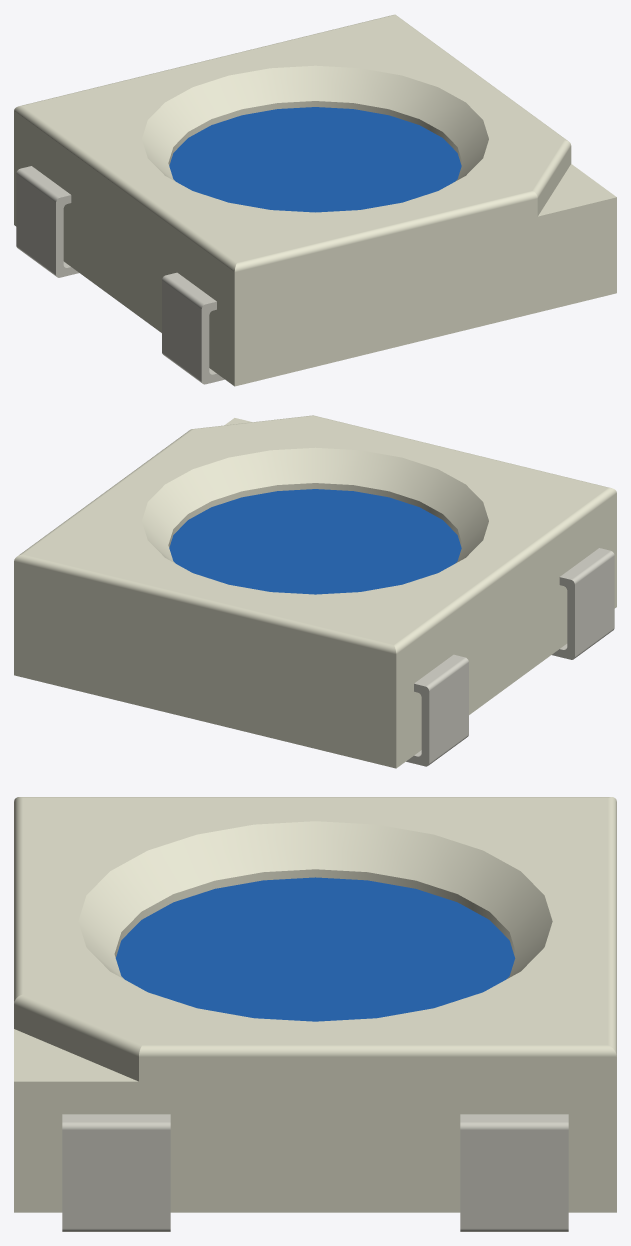
File: LED_WS2812B_PLCC4_5.0x5.0mm_P3.2mm.glb
3 renders of one model, top to bottom at view 1: azimuth 30°, elevation 25°; view 2: azimuth 150°, elevation 25°; view 3: azimuth 270°, elevation 25°, orthographic. The views are drawn at different scales.
Visible parts, largest first — view 1: =>[0:1:1:3]; view 2: =>[0:1:1:3]; view 3: =>[0:1:1:3].
Boxes of the visible parts, x1,y1,x2,y2 form: =>[0:1:1:3]: (14, 14, 616, 386); =>[0:1:1:3]: (14, 415, 616, 768); =>[0:1:1:3]: (14, 797, 616, 1231).
Bounding box in the file's own units: 0.0054 × 0.0016 × 0.005.
